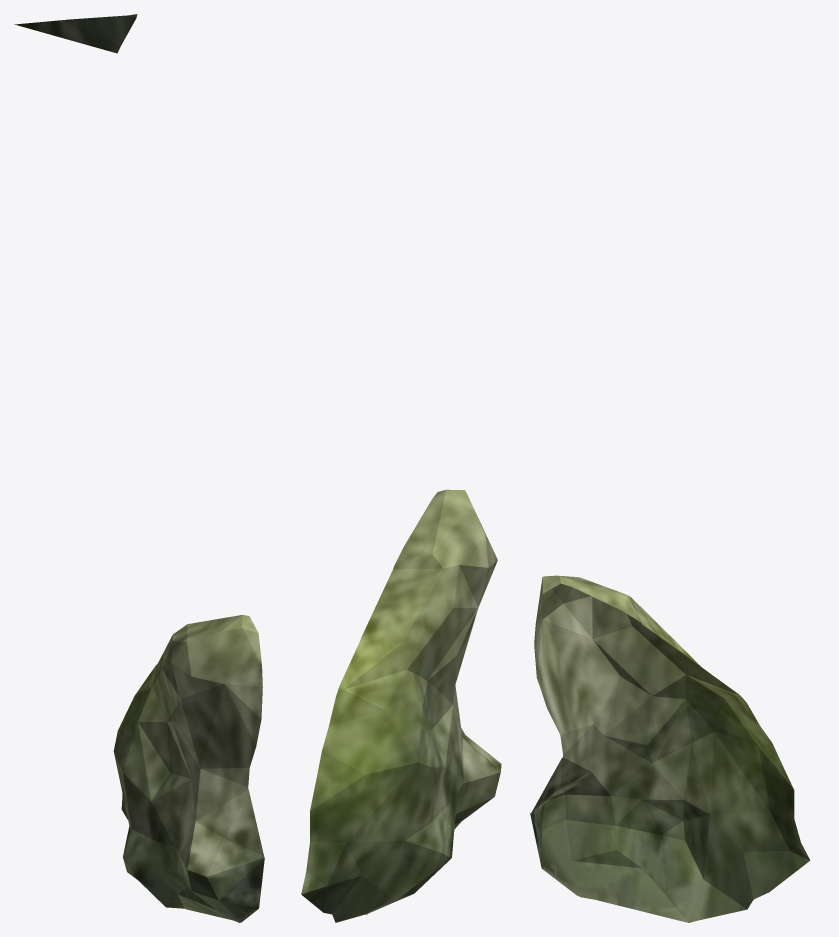
3 views of the same model, side by side, from view 1: azimuth 30°, elevation 25°; view 2: azimuth 150°, elevation 25°; view 3: azimuth 270°, elevation 25° (orthographic). The views are drawn at different scales.
Size of the model in its own units: 0.7393 by 5.89 by 1.83.
1 material, 1 textured.
